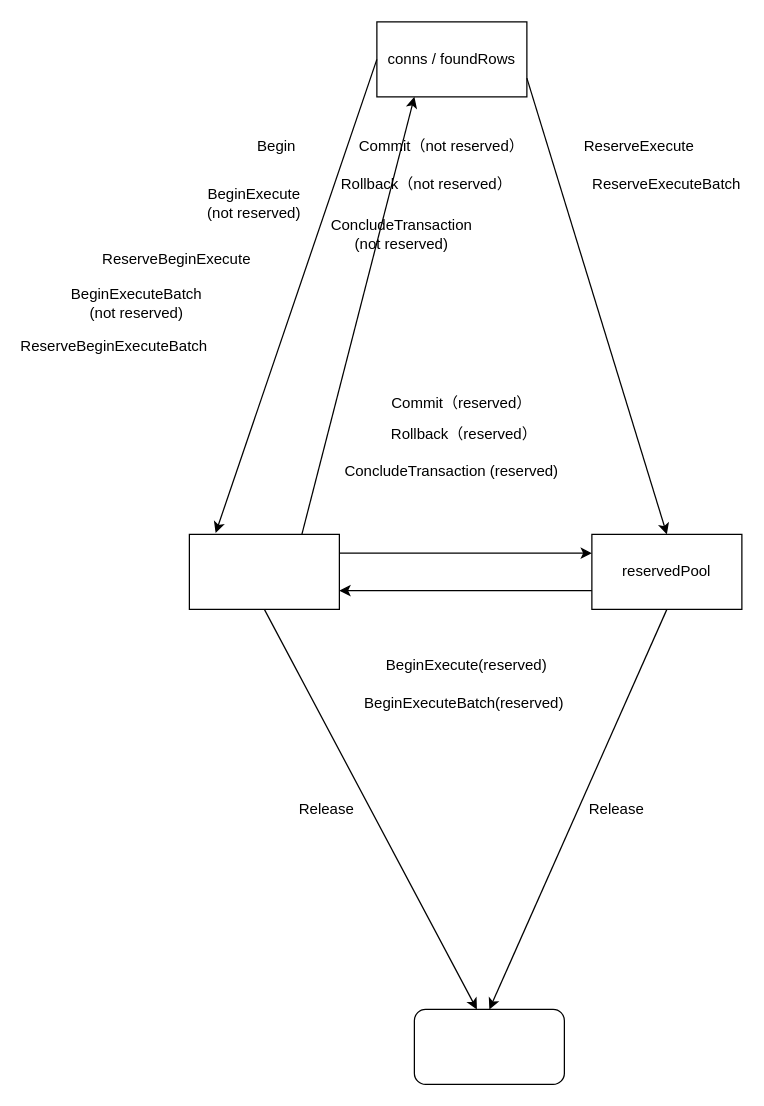
Image size: 764x1106. Some labels were removed from this diagram. The shapes that lost their labels are listed below. From the top down, each one's box as (x1, y1, x2, y2) in pixels, then its label:
(188, 533, 339, 609): activePool
(413, 1008, 564, 1084): Close
